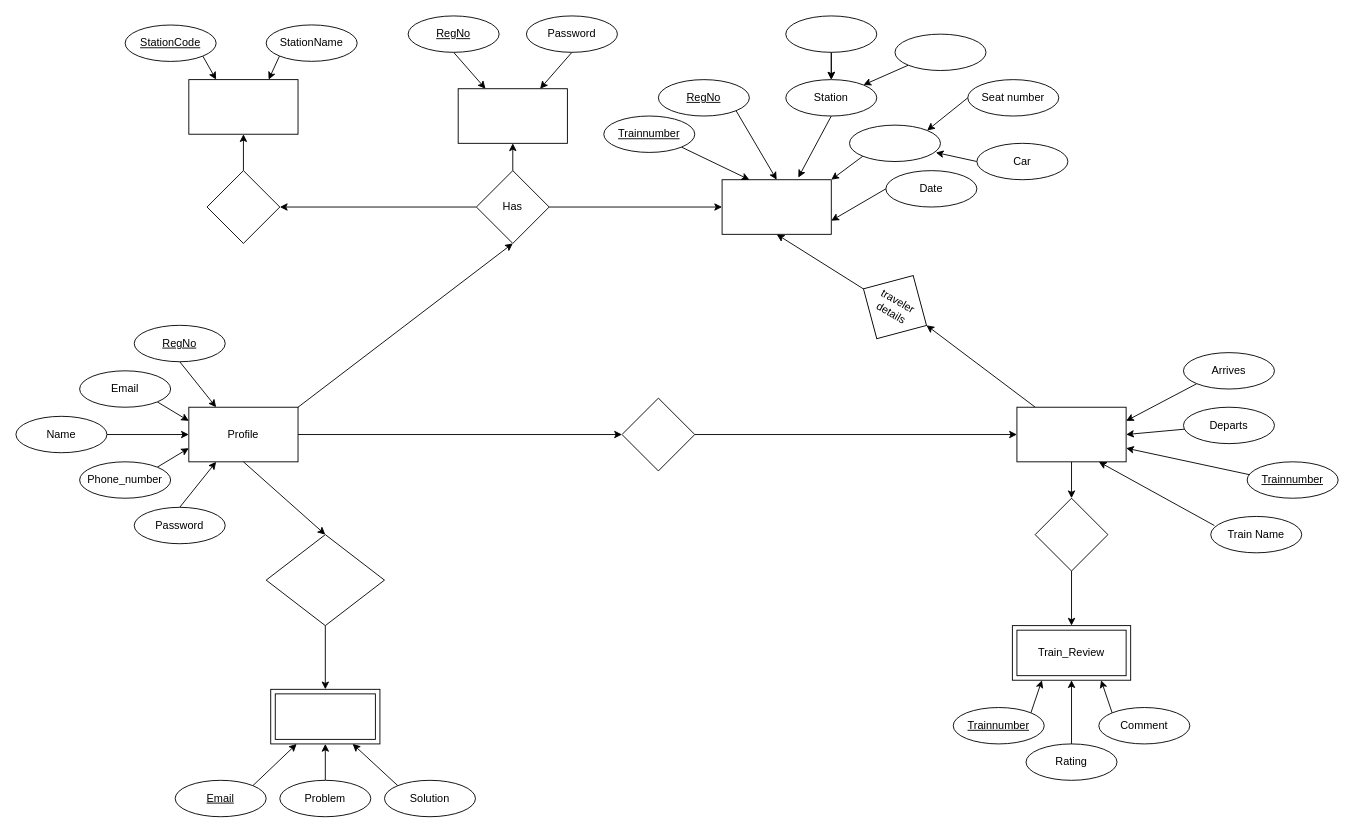
Some shapes in this 1354 by 833 pixel diagram are drawn without their labels. The shapes that lost their labels are listed below. From the top down, each one's box as (x1, y1, x2, y2) in pixels, then its label:
(785, 15, 877, 52): Destination
(894, 33, 986, 71): Boarding
(188, 79, 298, 134): E_Food
(457, 88, 567, 143): Login
(849, 124, 940, 162): Seat Details
(206, 170, 280, 243): Food
(721, 179, 831, 234): Travelling_Details
(621, 397, 695, 471): Search_train
(1016, 406, 1126, 462): Train
(1034, 497, 1108, 571): Train_reviews
(265, 534, 384, 626): Issue or Suggestions
(270, 688, 380, 744): Issue
